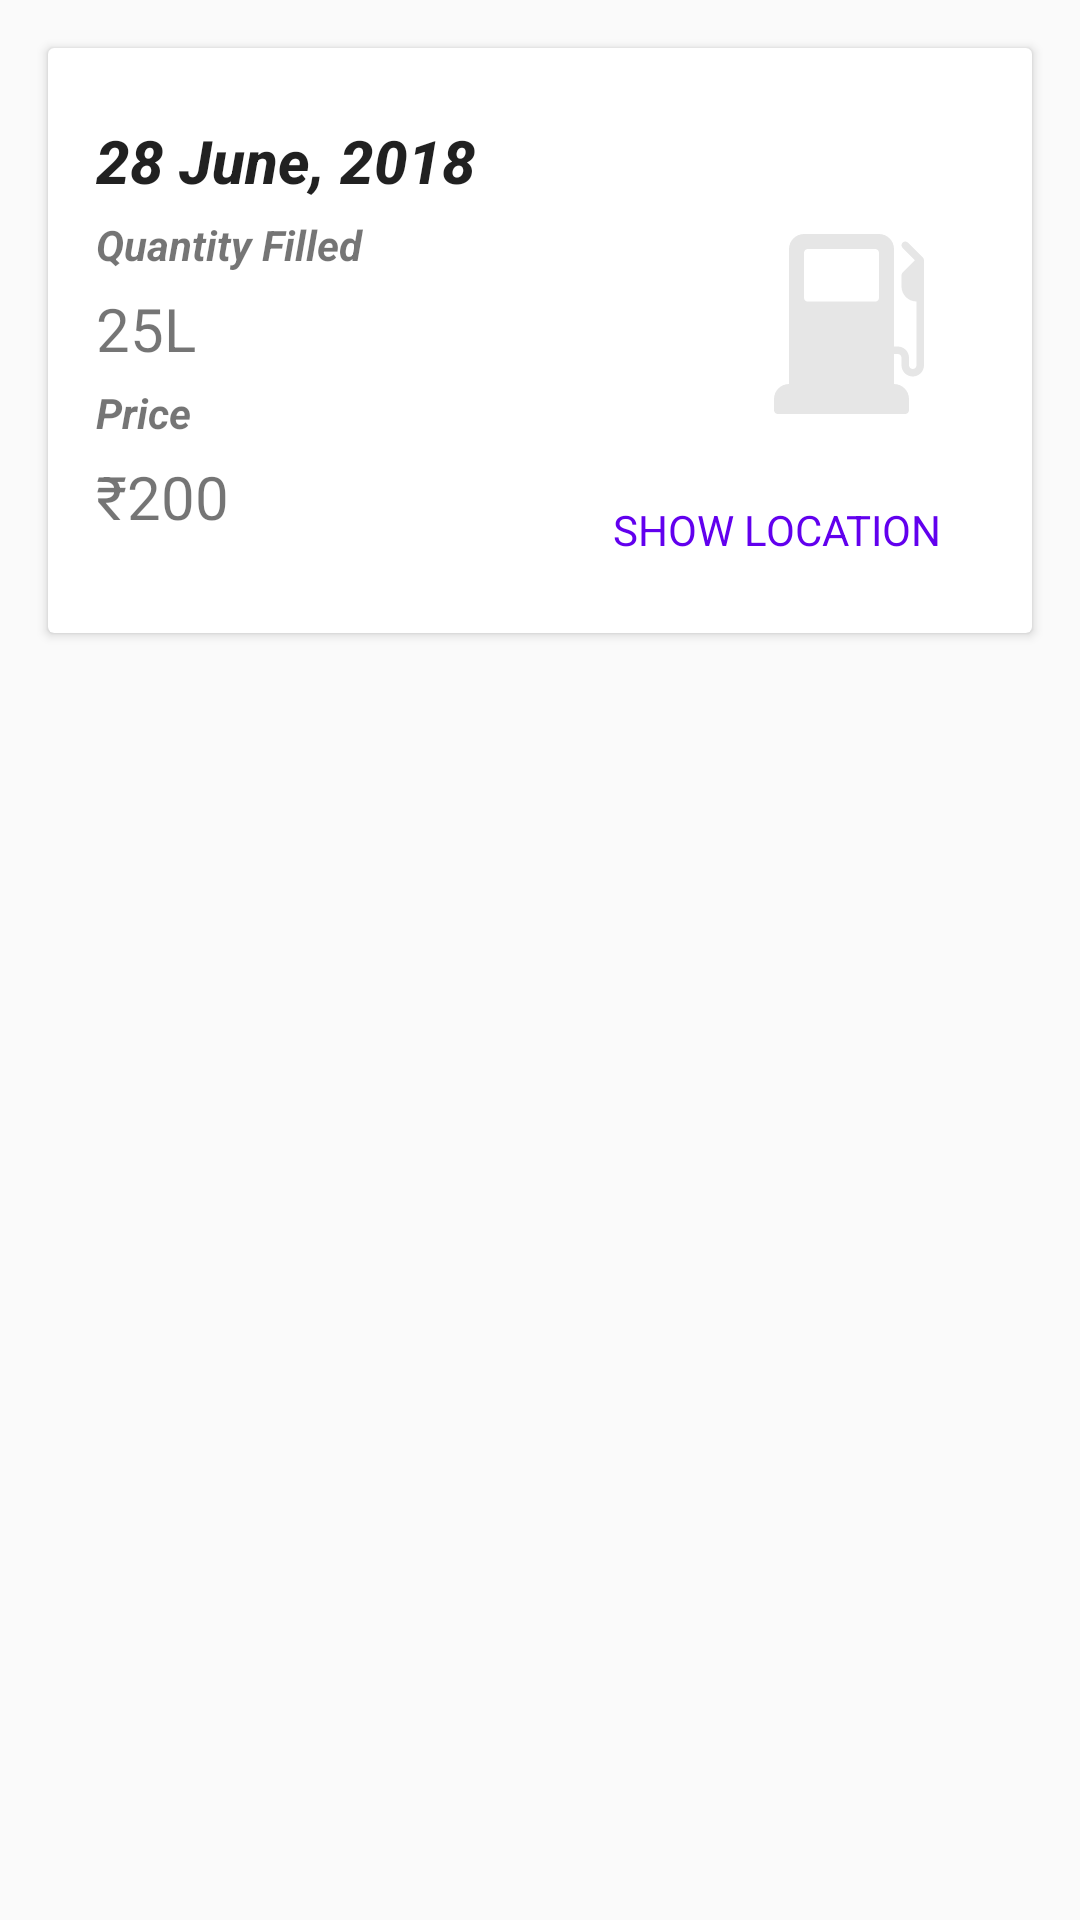

Named icons in this screenshot (1080*1920) and their bounding boxes, box(x1, y1, x2, y2):
gas station: box(774, 234, 924, 414)
